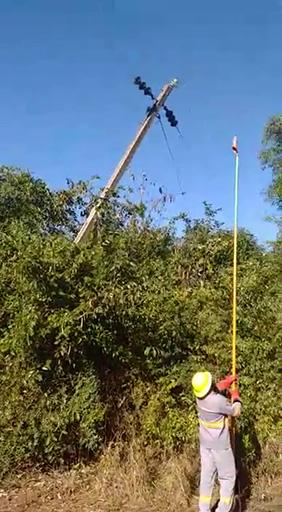Detector_Tensao_Contato: (232, 132, 239, 154)
Vara_Manobra: (229, 153, 241, 402)
